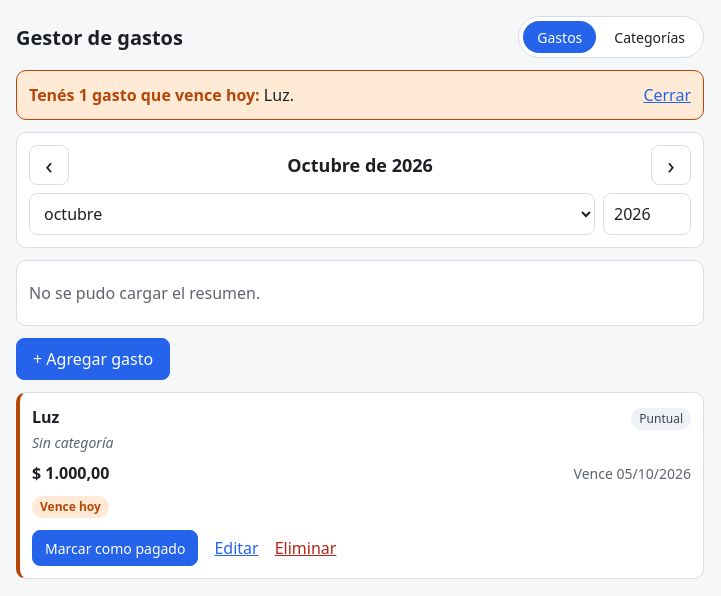
Scenario: App › al abrir avisa del gasto que vence hoy y deja de avisar al pagarlo
The image size is (721, 596).
Expected: the message shows "Tenés 1 gasto que vence hoy: Luz.", left=16, top=70, right=704, bottom=120
Click the button with aria-label "Marcar Luz como pagado" at (115, 548), box left=32, top=530, right=198, bottom=566
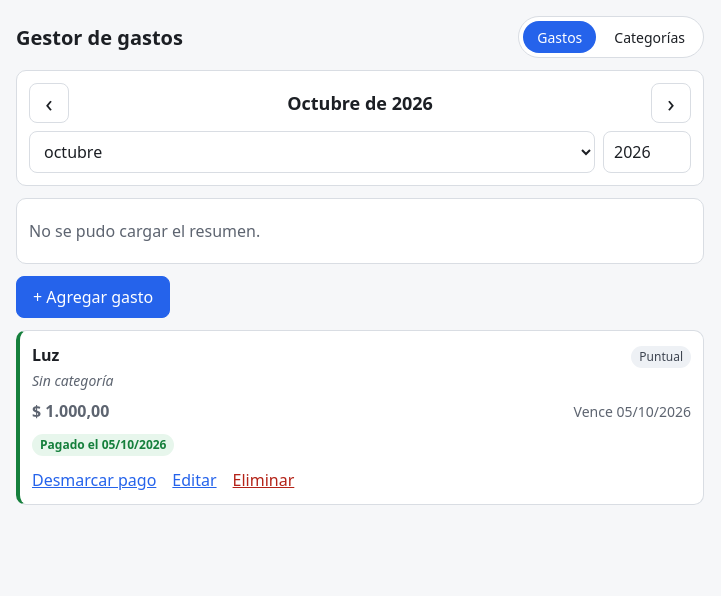
Expected: the text "Pagado el 05/10/2026" is shown, left=32, top=434, right=174, bottom=456
Expected: the message "Tenés 1 gasto que vence hoy: Luz. Cerrar" is gone
